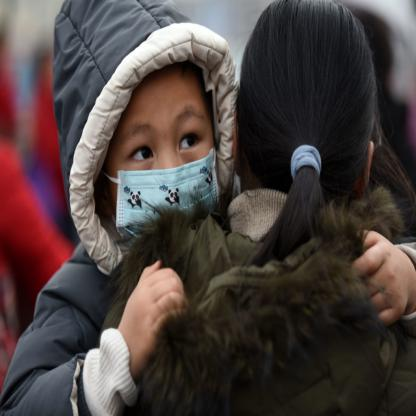Wearing_Mask: (112, 100, 221, 249)
